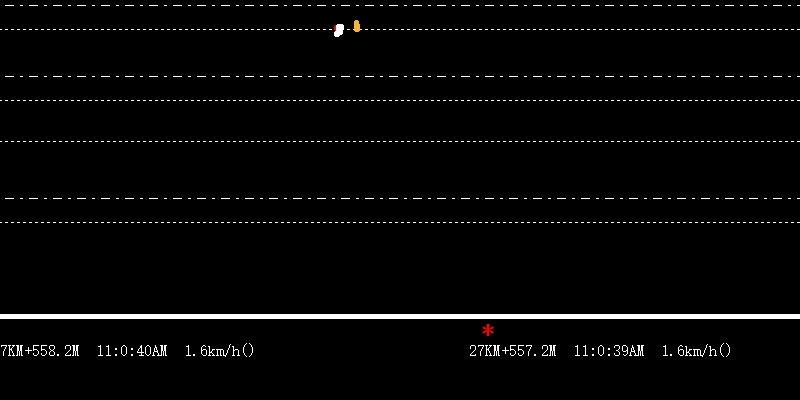face_1: (349, 17, 362, 33)
face_s: (332, 20, 344, 39)
star: (479, 319, 498, 339)
